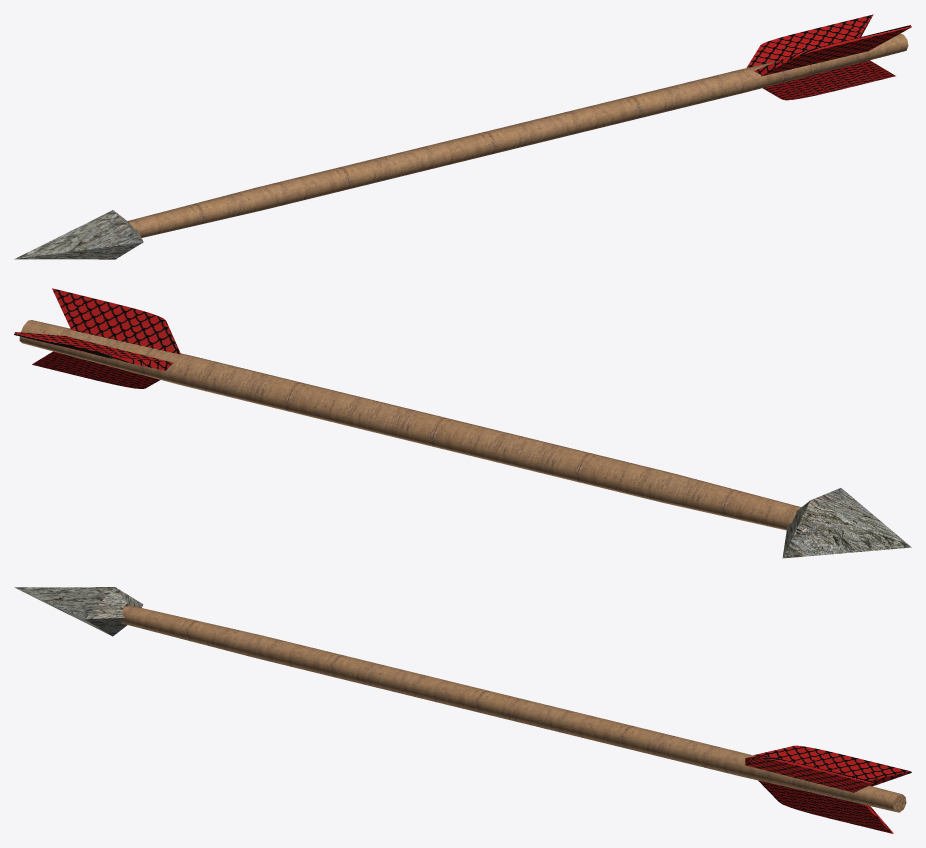
File: Arrow.FBX
3 views of the same model, one above another, from view 1: azimuth 30°, elevation 25°; view 2: azimuth 150°, elevation 25°; view 3: azimuth 330°, elevation 25° (orthographic).
Parts seen in each view (by area): view 1: Object001; view 2: Object001; view 3: Object001.
Boxes of the visible parts, <box> form: Object001: <box>14,14,911,259</box>; Object001: <box>14,288,911,558</box>; Object001: <box>14,587,911,833</box>.
Size of the model in its own units: 47.24 by 3.26 by 5.41.
3 materials, 3 textured.
